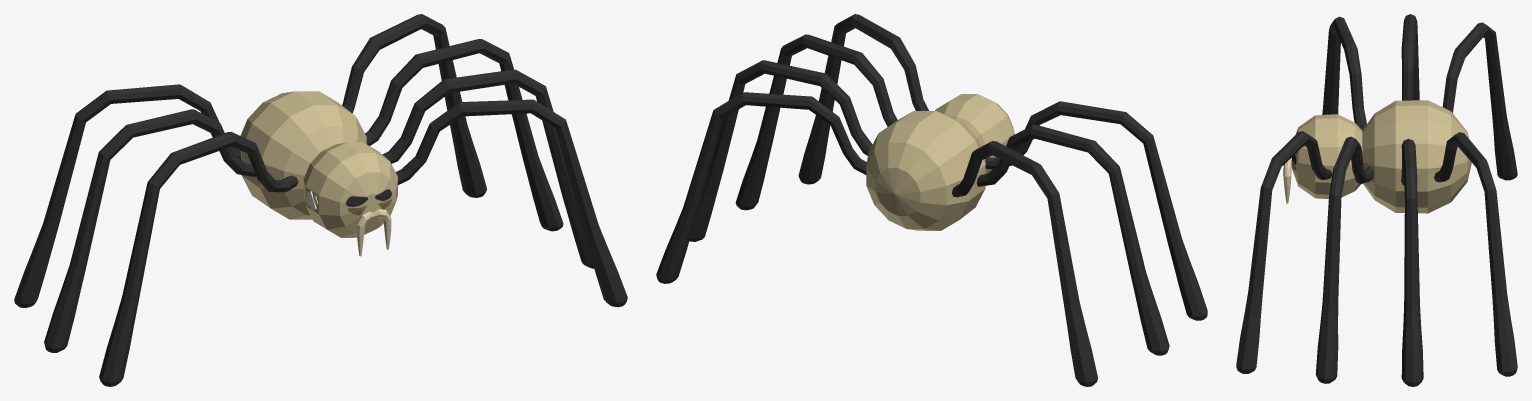
Rendered from MrLongLegs.fbx.
3 views of the same model, side by side, from view 1: azimuth 30°, elevation 25°; view 2: azimuth 150°, elevation 25°; view 3: azimuth 270°, elevation 25° (orthographic). The views are drawn at different scales.
Parts seen in each view (by area): view 1: MrLongLegs_All; view 2: MrLongLegs_All; view 3: MrLongLegs_All.
Part boxes in pixels (left/top/right/bottom): MrLongLegs_All: left=14, top=14, right=627, bottom=386; MrLongLegs_All: left=656, top=14, right=1207, bottom=386; MrLongLegs_All: left=1236, top=14, right=1517, bottom=386.
Bounding box in the file's own units: 329 × 127 × 174.
Materials: 1 (1 with a texture image).
